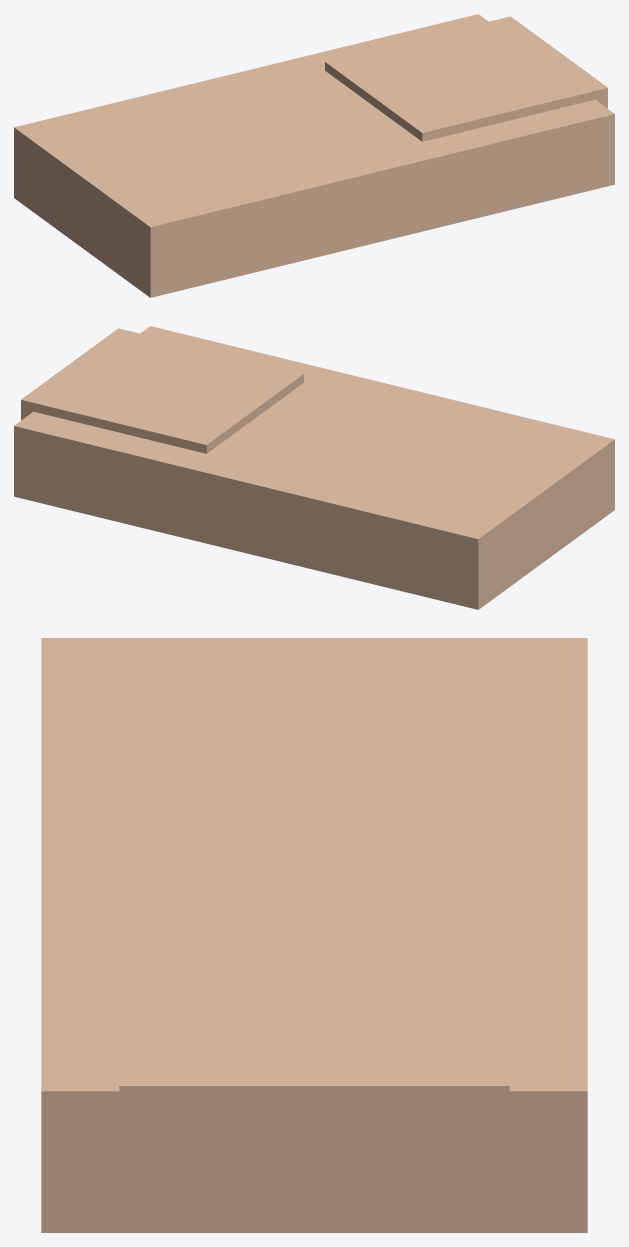
Rendered from product_fillet.glb.
3 views of the same model, one above another, from view 1: azimuth 30°, elevation 25°; view 2: azimuth 150°, elevation 25°; view 3: azimuth 270°, elevation 25° (orthographic). The views are drawn at different scales.
Parts seen in each view (by area): view 1: product.fillet; view 2: product.fillet; view 3: product.fillet.
Part boxes in pixels (left/top/right/bottom): product.fillet: left=14, top=14, right=614, bottom=297; product.fillet: left=14, top=326, right=614, bottom=609; product.fillet: left=41, top=638, right=587, bottom=1232.
Size of the model in its own units: 0.24 by 0.0382 by 0.1189.
